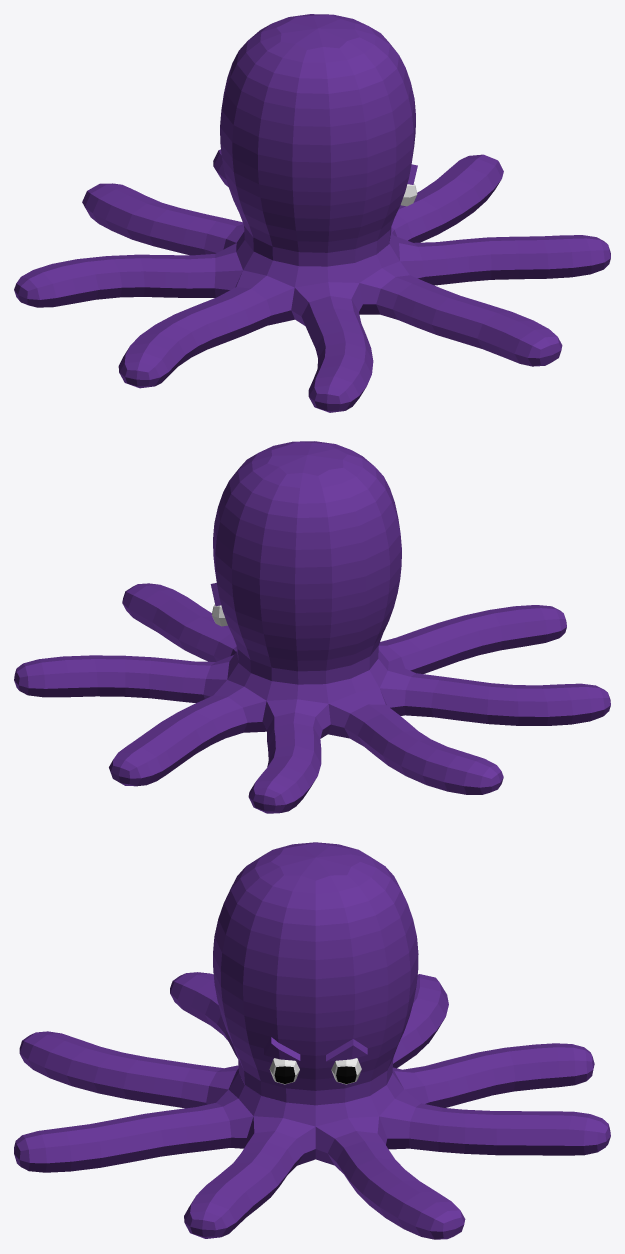
File: octopus.fbx
The picture shows the model from 3 angles, top to bottom: view 1: azimuth 30°, elevation 25°; view 2: azimuth 150°, elevation 25°; view 3: azimuth 270°, elevation 25°; orthographic projection. The views are drawn at different scales.
Parts seen in each view (by area): view 1: Body, Head; view 2: Body, Head; view 3: Body, Head.
Boxes of the visible parts, bbox=[...] form: Body: bbox=[14, 149, 610, 412]; Head: bbox=[220, 14, 417, 266]; Body: bbox=[14, 583, 610, 813]; Head: bbox=[210, 441, 401, 684]; Body: bbox=[14, 972, 610, 1239]; Head: bbox=[213, 842, 418, 1105].
Bounding box in the file's own units: 902 × 453 × 904.
